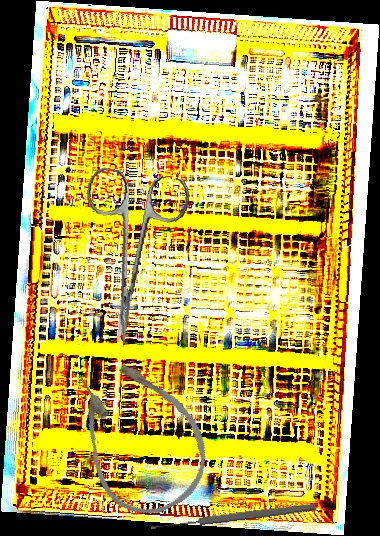Cannula: (51, 338, 227, 531)
Iris Scissors: (66, 166, 192, 349)
Surgical Spoon: (150, 501, 316, 533)
